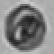correct: (4, 4, 47, 50)
